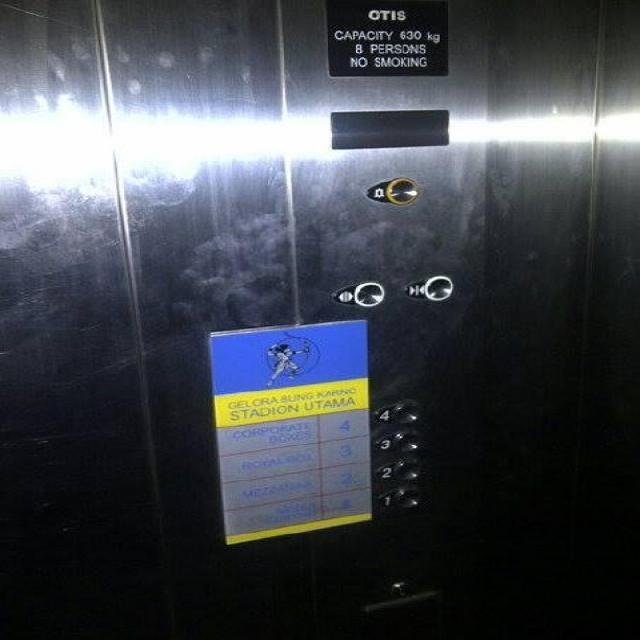1: (374, 485, 422, 512)
2: (374, 456, 422, 482)
3: (375, 428, 420, 456)
4: (373, 397, 420, 427)
alarm: (365, 178, 415, 203)
blur: (387, 578, 413, 599)
close: (399, 274, 453, 303)
led: (329, 108, 447, 149)
open: (329, 280, 384, 308)
